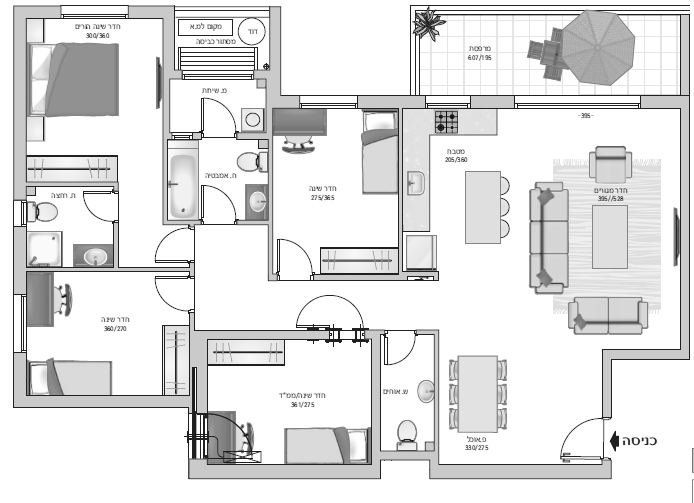door: (557, 414, 600, 461), (199, 93, 239, 131), (274, 235, 314, 273), (151, 273, 191, 311), (153, 225, 188, 265), (200, 184, 238, 219), (381, 335, 419, 366), (80, 188, 111, 224)
